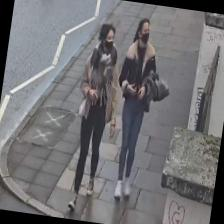person: (64, 22, 130, 214), (102, 16, 163, 201)
